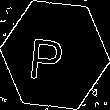P_N: (36, 28, 74, 82)
